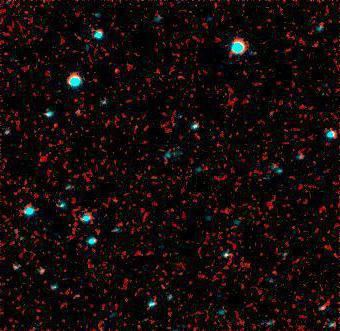star: (41, 109, 71, 139)
